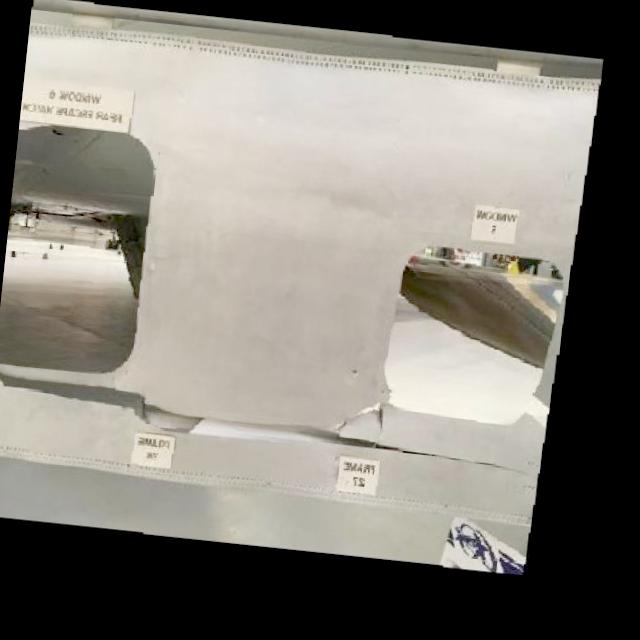crack: (378, 443, 541, 475)
